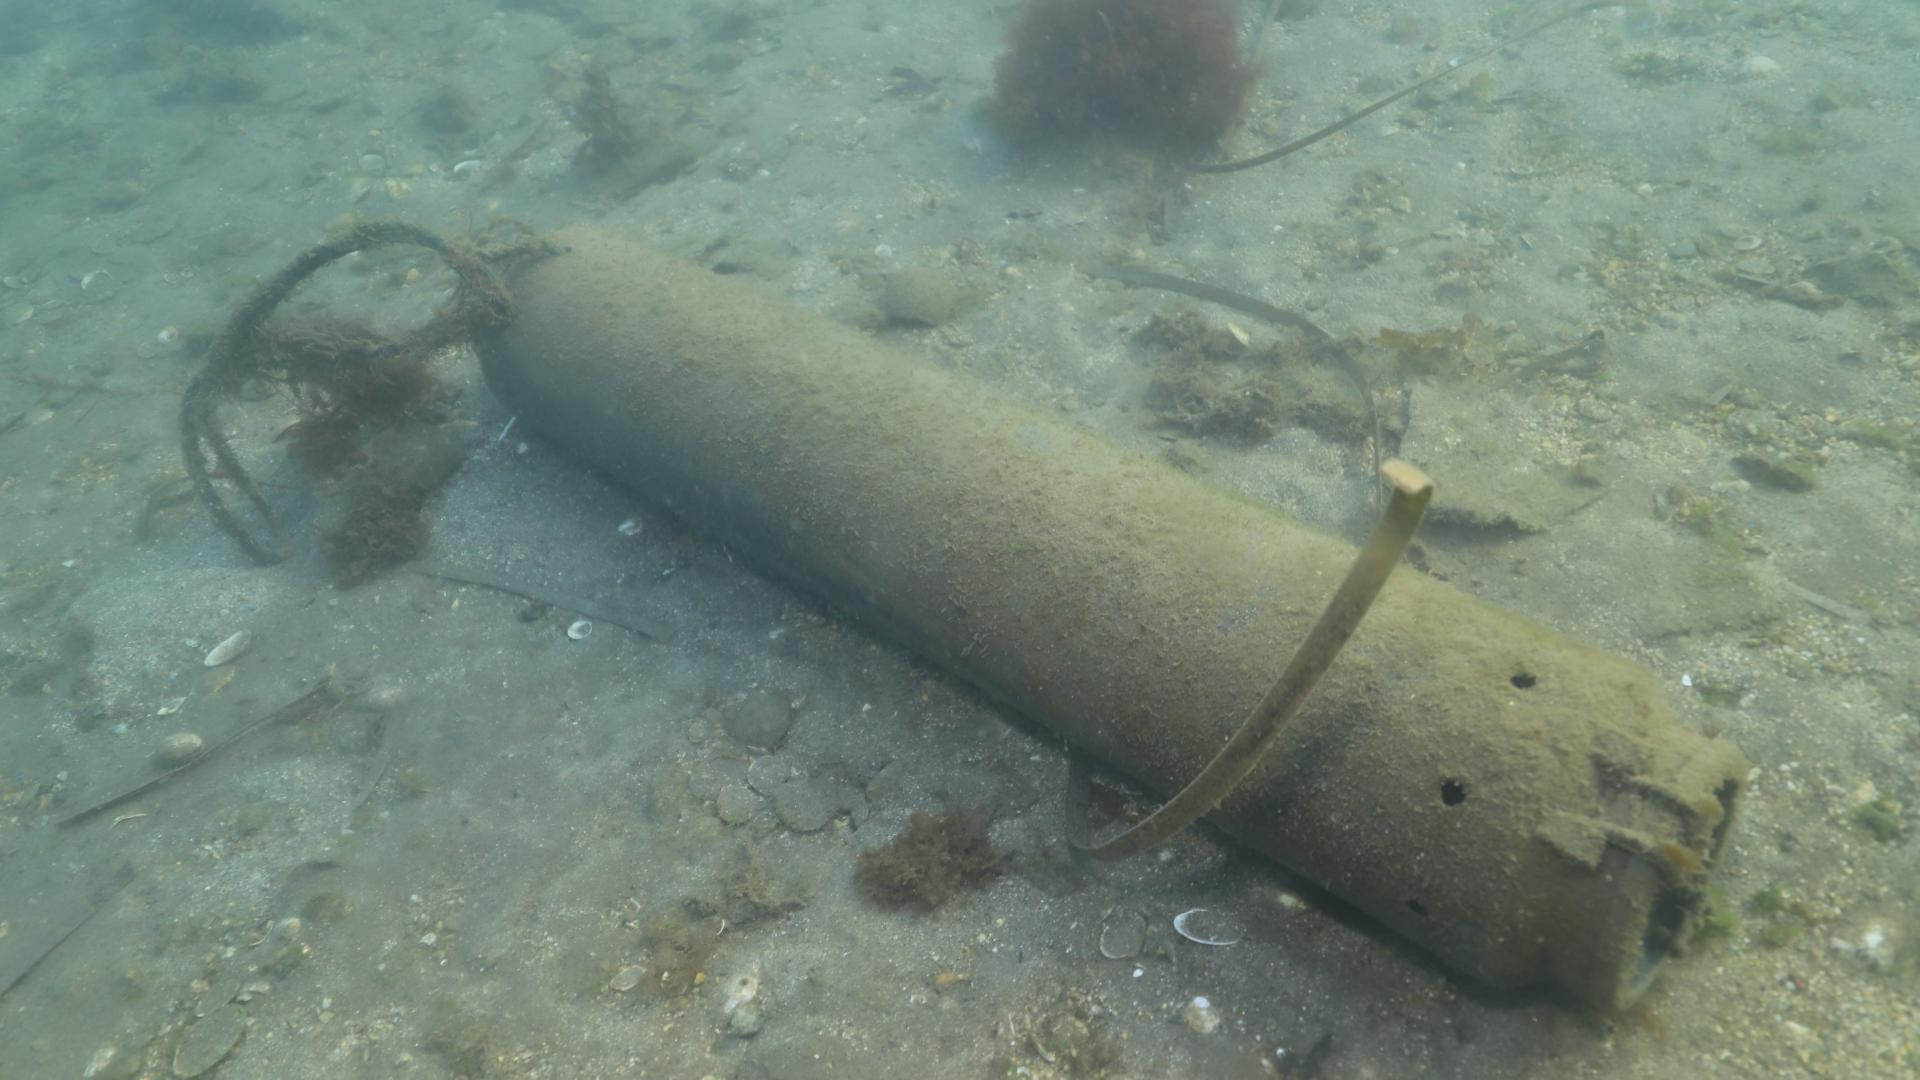bundle of ropes: (178, 220, 562, 566)
eel fish trap: (473, 225, 1746, 1017)
